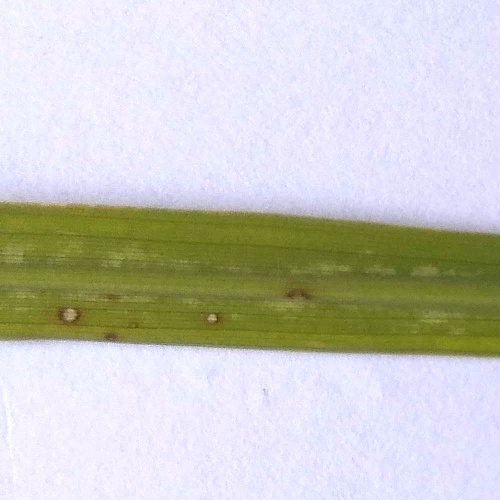Busuk Leher: (279, 279, 322, 306), (55, 296, 88, 325), (201, 305, 228, 333), (97, 325, 125, 350)
